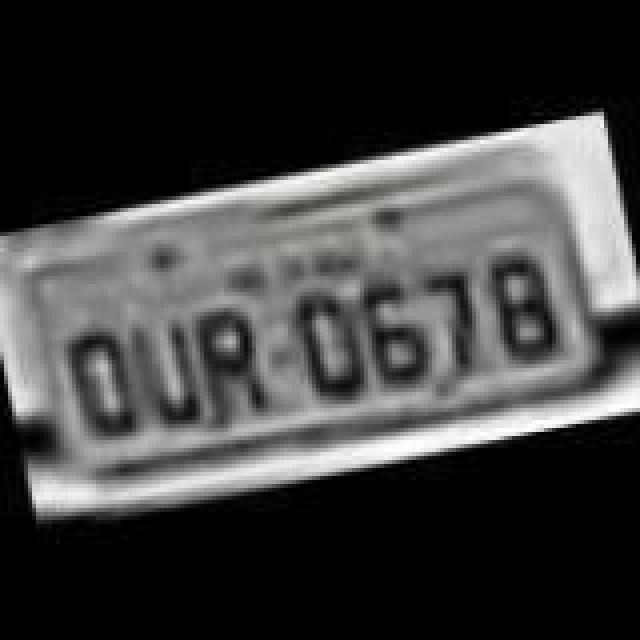6: (348, 266, 436, 390)
7: (410, 258, 494, 382)
8: (476, 242, 564, 366)
O: (60, 318, 152, 442), (288, 282, 376, 402)
R: (180, 296, 268, 424)
U: (124, 308, 212, 432)
